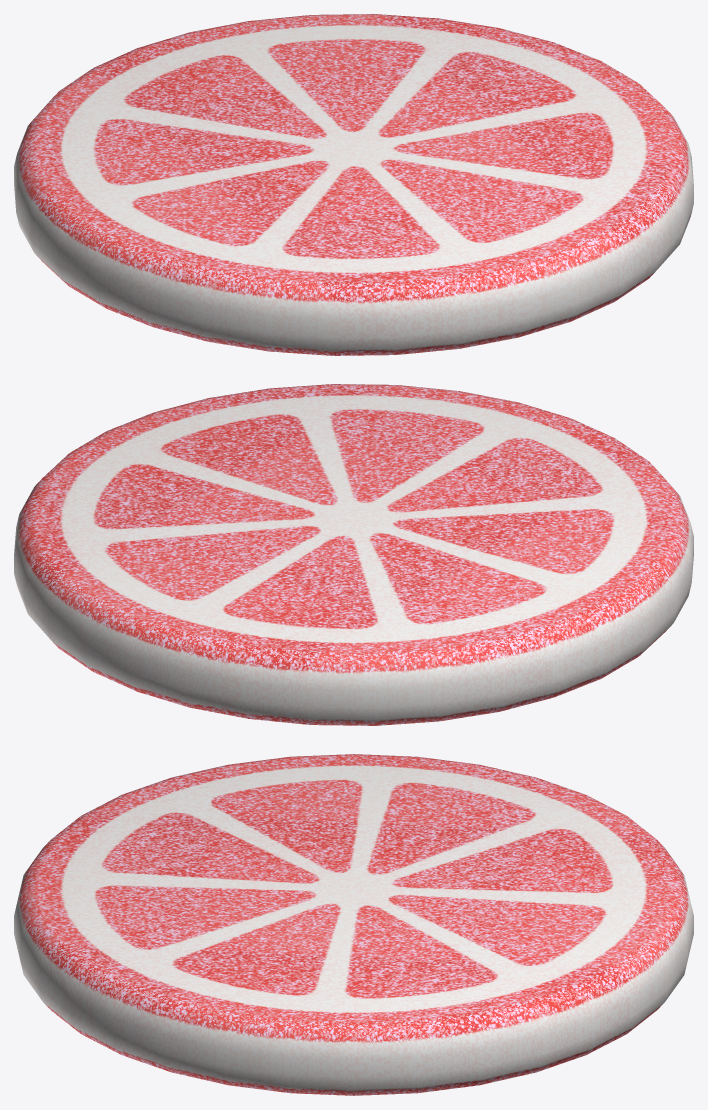
The model's file is Gummy Rodaja Completa.fbx.
3 renders of one model, top to bottom at view 1: azimuth 30°, elevation 25°; view 2: azimuth 150°, elevation 25°; view 3: azimuth 270°, elevation 25°, orthographic.
Parts seen in each view (by area): view 1: Gummy Rodaja Completa; view 2: Gummy Rodaja Completa; view 3: Gummy Rodaja Completa.
Boxes of the visible parts, left/top/right/bottom form: Gummy Rodaja Completa: left=14, top=14, right=693, bottom=355; Gummy Rodaja Completa: left=14, top=384, right=693, bottom=725; Gummy Rodaja Completa: left=14, top=754, right=693, bottom=1095.
Size of the model in its own units: 0.0999 by 0.0116 by 0.0999.
